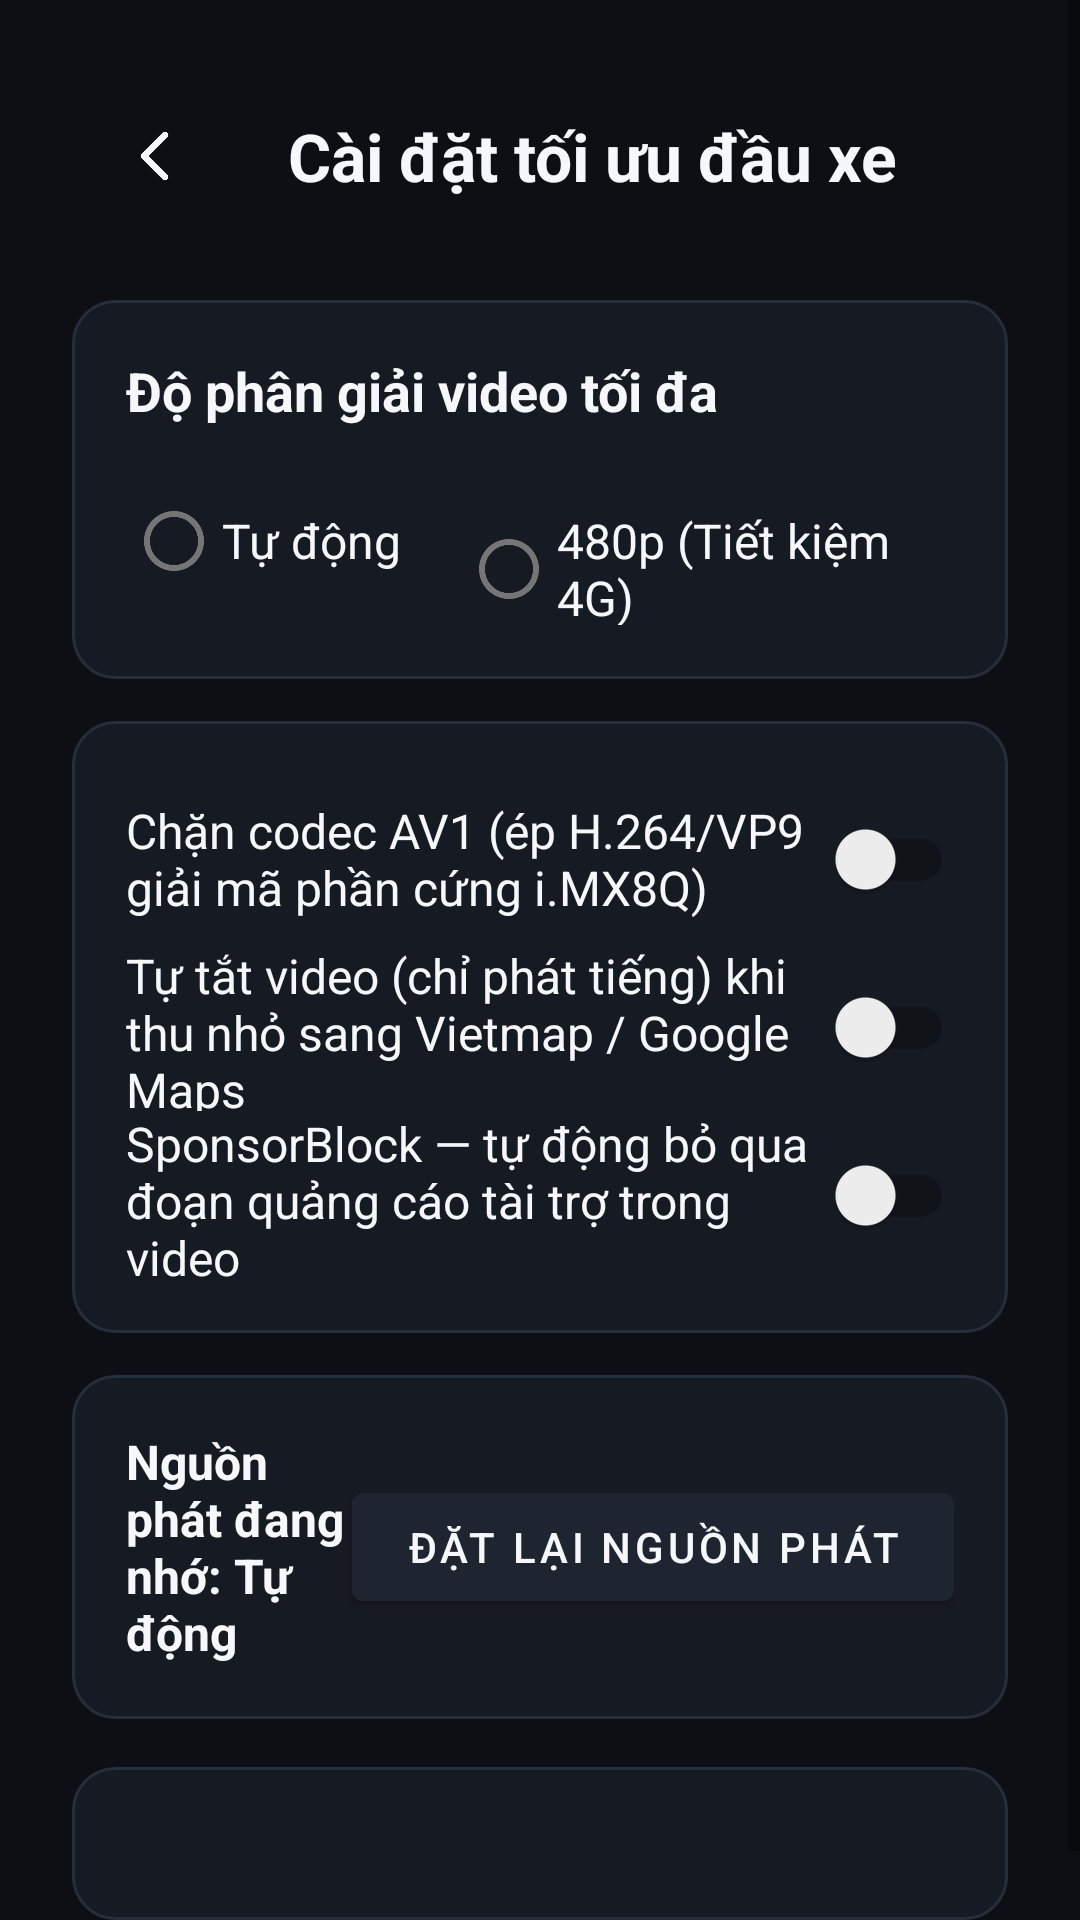

Named icons in this screenshot (1080 x 1920) and their centers, point (x, y):
Quay lại: point (154, 156)
